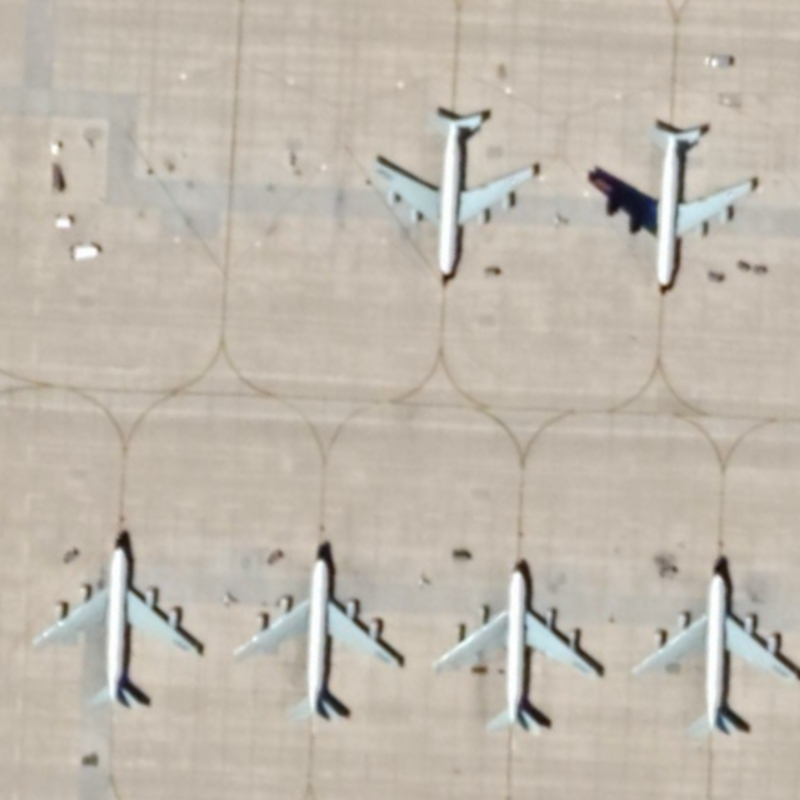A11: (23, 515, 210, 716), (364, 98, 546, 296), (228, 539, 409, 736), (578, 111, 764, 302), (621, 550, 800, 748), (423, 550, 607, 741)
